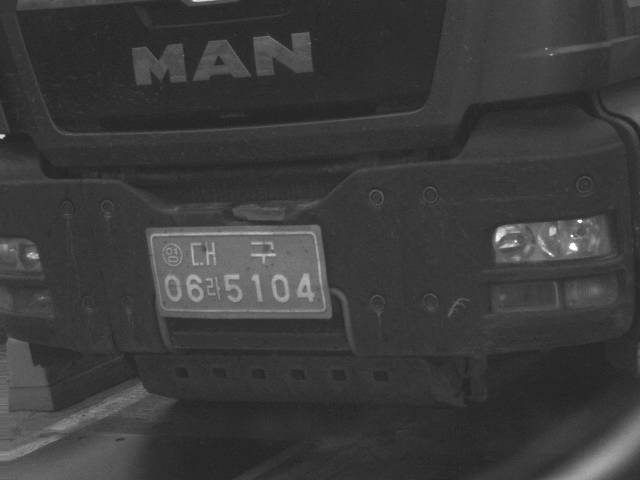car: (1, 1, 638, 407)
plate: (143, 228, 331, 318)
